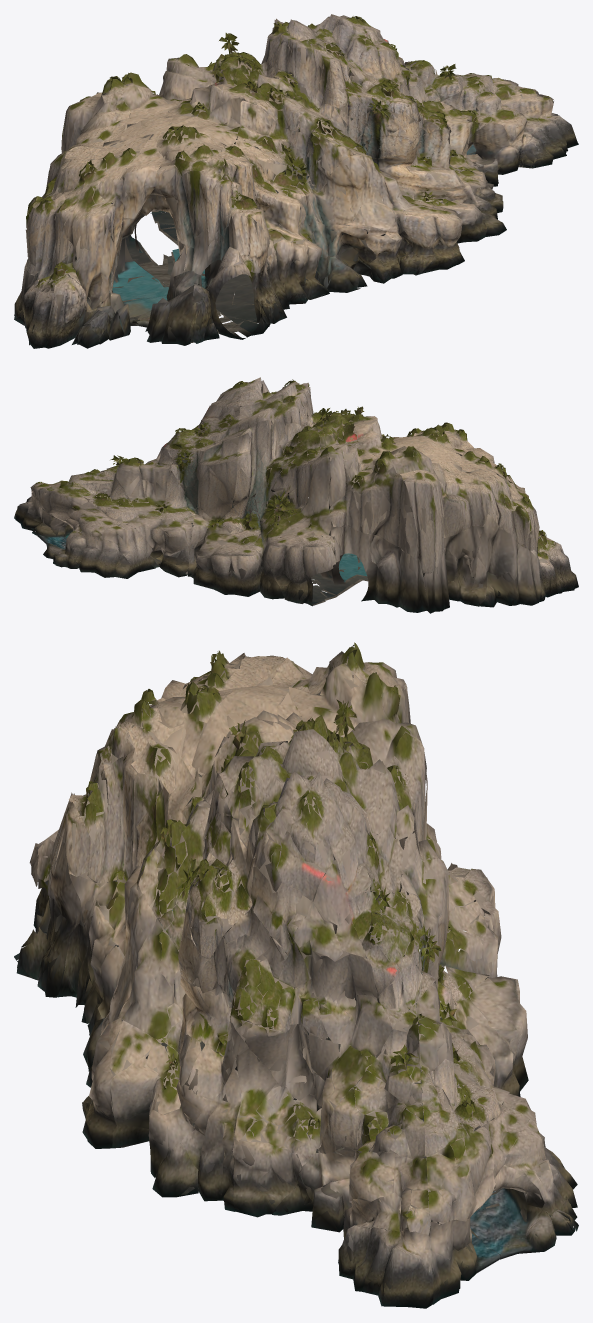
File: headland.glb
The picture shows the model from 3 angles, top to bottom: view 1: azimuth 30°, elevation 25°; view 2: azimuth 150°, elevation 25°; view 3: azimuth 270°, elevation 25°; orthographic projection. The views are drawn at different scales.
Parts seen in each view (by area): view 1: Headland_detail_LOD0; view 2: Headland_detail_LOD0; view 3: Headland_detail_LOD0.
Boxes of the visible parts, box(x1,y1,x2,y2) form: Headland_detail_LOD0: box(14, 14, 578, 348); Headland_detail_LOD0: box(14, 377, 578, 613); Headland_detail_LOD0: box(14, 642, 578, 1308).
Size of what is drawn, in the model's own units: 260 by 86.87 by 130.
1 material, 1 textured.
